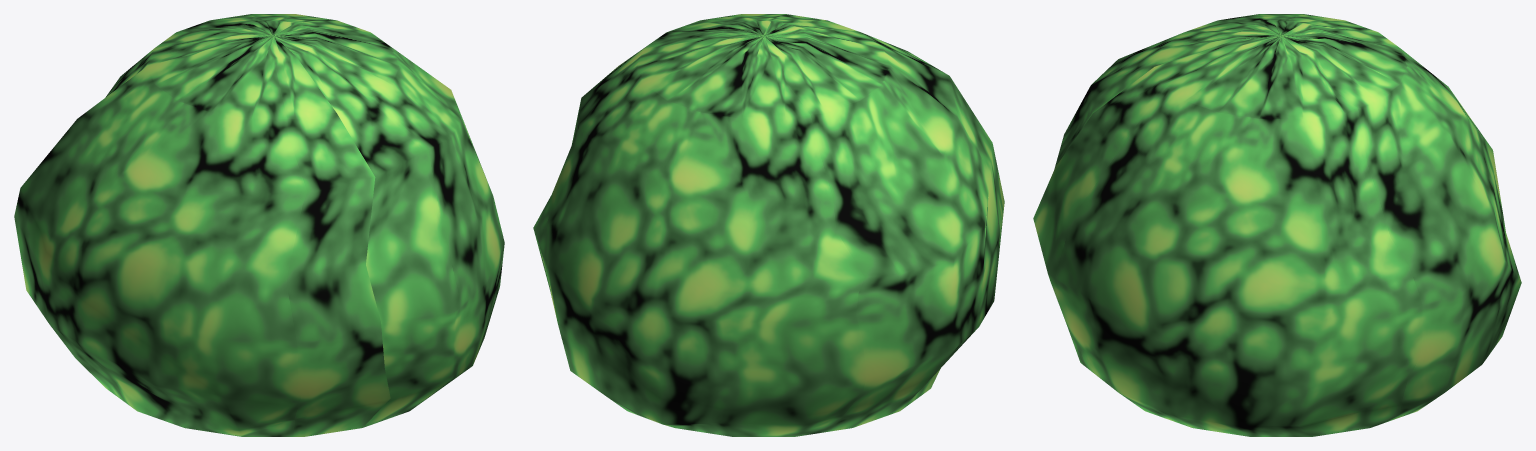
Rendered from GAMEJAMPUFFER - Bush 2.fbx.
3 views of the same model, side by side, from view 1: azimuth 30°, elevation 25°; view 2: azimuth 150°, elevation 25°; view 3: azimuth 270°, elevation 25° (orthographic).
Visible parts, largest first — view 1: Beach Ball.002; view 2: Beach Ball.002; view 3: Beach Ball.002.
Part boxes in pixels (x1,y1,x2,y2): Beach Ball.002: (14, 14, 504, 436); Beach Ball.002: (533, 14, 1004, 436); Beach Ball.002: (1033, 14, 1521, 436).
Bounding box in the file's own units: 223 × 174 × 236.
1 material, 1 textured.
